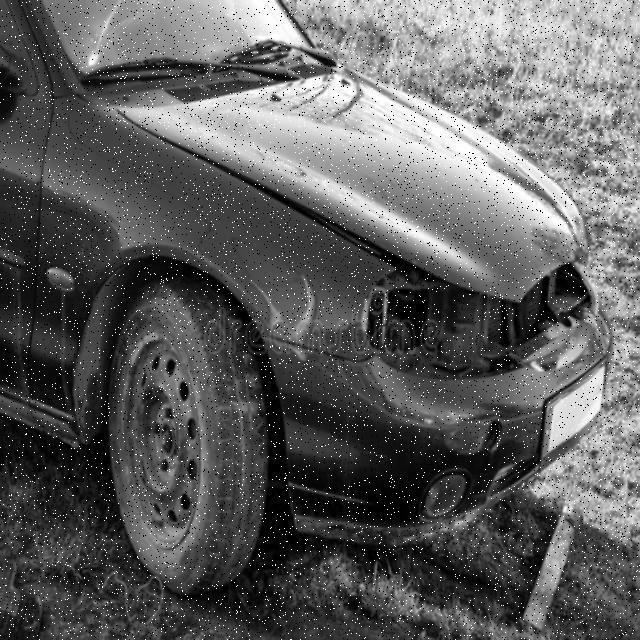fender-dent: (40, 149, 329, 429)
